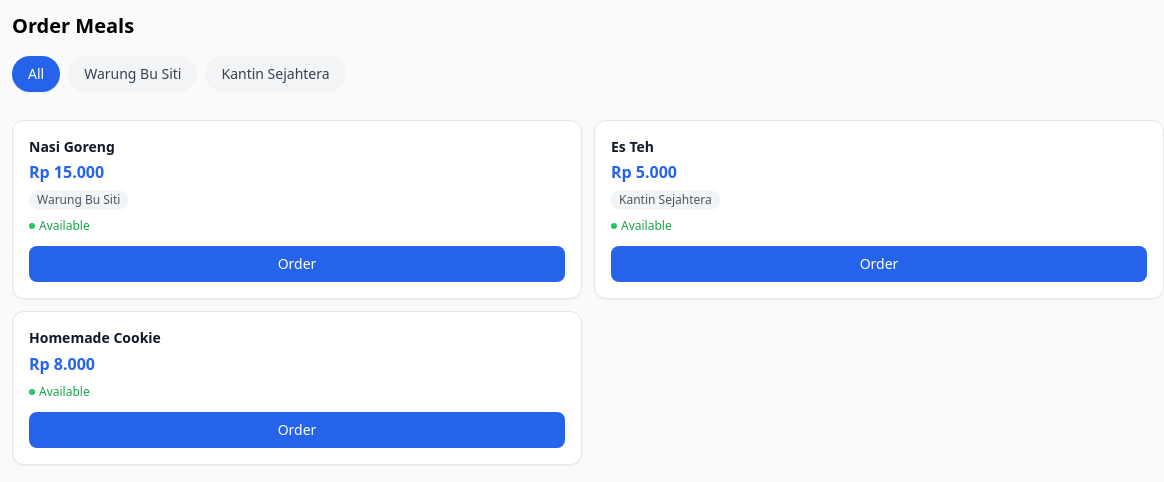
Test: OrderPage › filters meals client-side when a food store chip is selected
Click the button "Warung Bu Siti". click: (133,74)
box: [68,56,198,92]
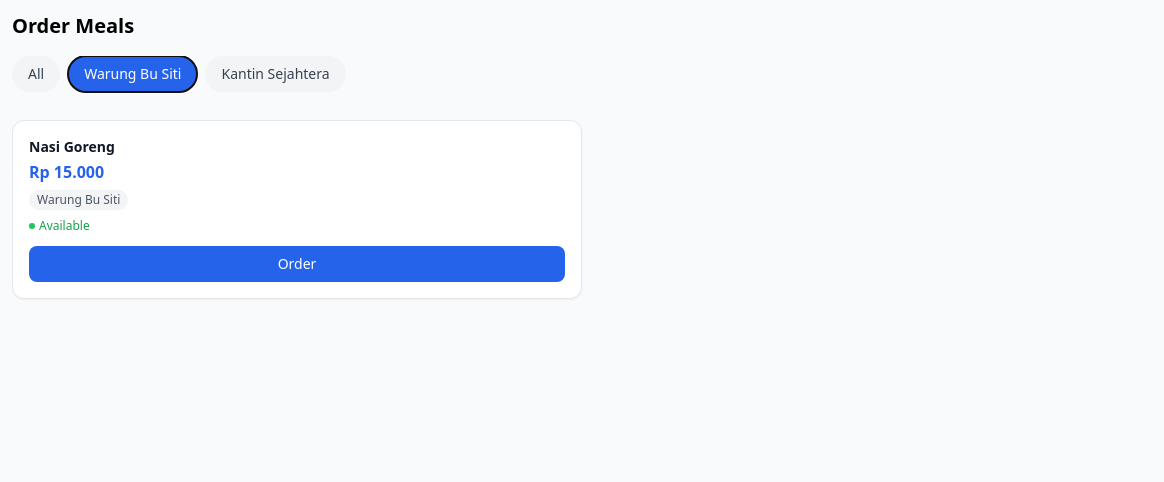
Expected: the heading "Nasi Goreng" is shown, [29,137,115,156]
Expected: the heading "Es Teh" is gone
